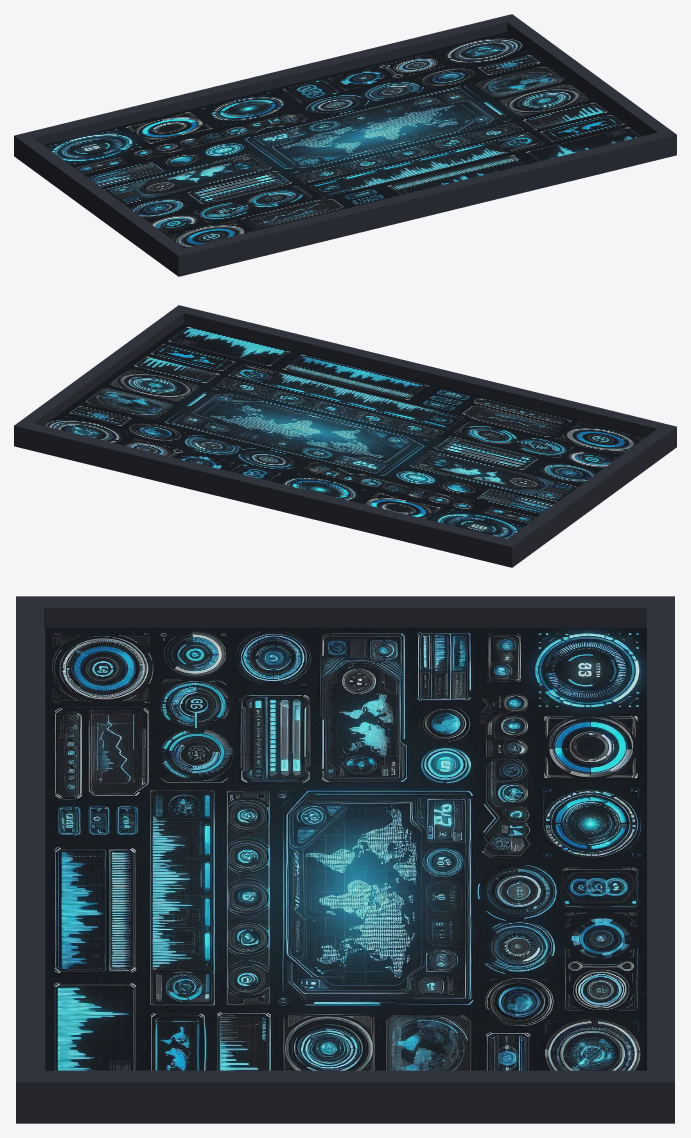
File: Ecran sol1.glb
3 renders of one model, top to bottom at view 1: azimuth 30°, elevation 25°; view 2: azimuth 150°, elevation 25°; view 3: azimuth 270°, elevation 25°, orthographic. The views are drawn at different scales.
Visible parts, largest first — view 1: Ecran sol right texture, Ecran sol right; view 2: Ecran sol right texture, Ecran sol right; view 3: Ecran sol right texture, Ecran sol right.
Boxes of the visible parts, x1,y1,x2,y2 form: Ecran sol right texture: [43, 32, 647, 247]; Ecran sol right: [14, 14, 676, 276]; Ecran sol right texture: [43, 323, 646, 538]; Ecran sol right: [14, 305, 676, 567]; Ecran sol right texture: [45, 627, 646, 1070]; Ecran sol right: [16, 596, 674, 1123].
Bounding box in the file's own units: 2.77 × 0.1095 × 1.58.
Materials: 2 (1 with a texture image).
